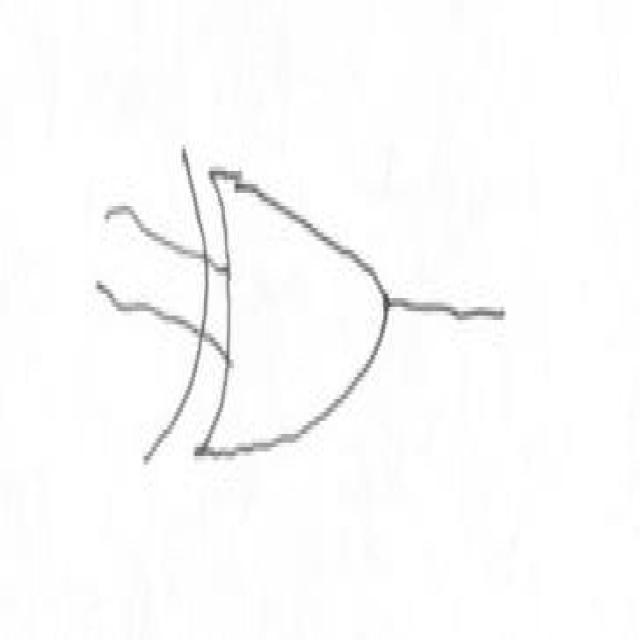XOR: (162, 88, 402, 485)
